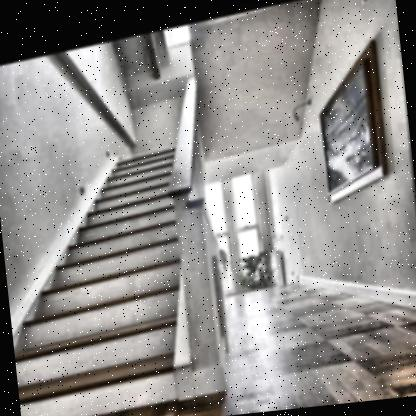stair: (0, 125, 227, 416)
